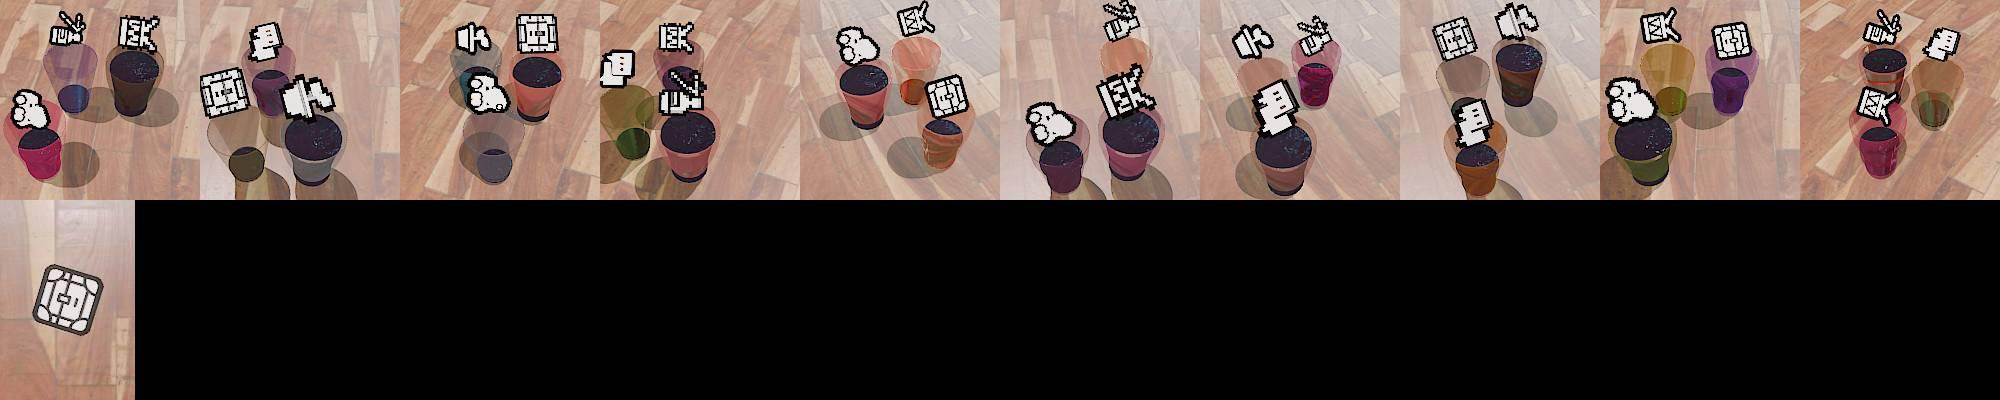icon: (31, 264, 104, 339), (1096, 62, 1156, 122), (1251, 77, 1302, 138), (199, 67, 251, 121), (280, 74, 337, 121), (1605, 75, 1658, 125), (1025, 99, 1079, 146), (657, 67, 707, 116), (1450, 96, 1495, 149), (1430, 16, 1478, 63), (924, 73, 969, 119), (465, 72, 510, 116), (514, 13, 559, 57), (1493, 1, 1540, 42), (9, 88, 52, 131), (1295, 14, 1335, 59), (1102, 1, 1142, 45), (836, 26, 881, 65), (1232, 21, 1274, 61), (1710, 21, 1753, 60), (1855, 85, 1897, 124), (117, 15, 160, 53), (247, 21, 285, 62), (1639, 7, 1680, 45), (1863, 9, 1902, 48), (49, 10, 87, 49), (599, 49, 636, 88), (896, 1, 933, 38), (657, 19, 696, 54), (455, 20, 492, 56), (1923, 27, 1960, 62)
